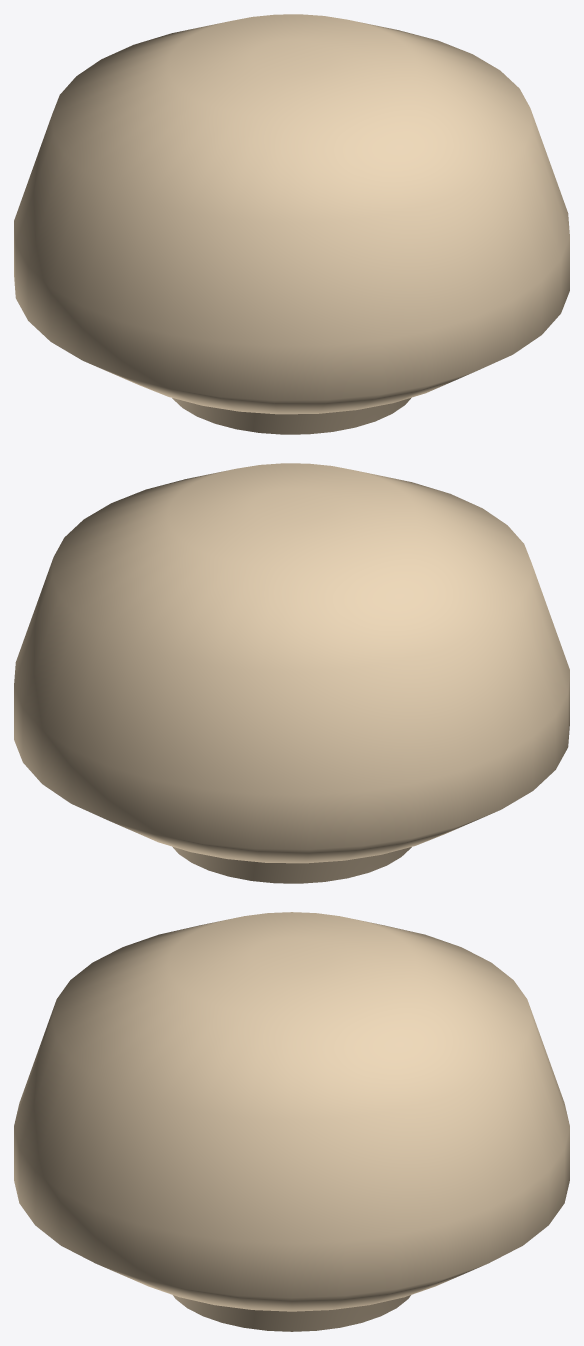
The model's file is mushroom.fbx.
3 views of the same model, one above another, from view 1: azimuth 30°, elevation 25°; view 2: azimuth 150°, elevation 25°; view 3: azimuth 270°, elevation 25° (orthographic).
Parts seen in each view (by area): view 1: Cylinder; view 2: Cylinder; view 3: Cylinder.
Boxes of the visible parts, x1,y1,x2,y2 form: Cylinder: (14, 14, 569, 434); Cylinder: (14, 463, 569, 883); Cylinder: (14, 912, 569, 1331).
Bounding box in the file's own units: 181 × 116 × 181.
